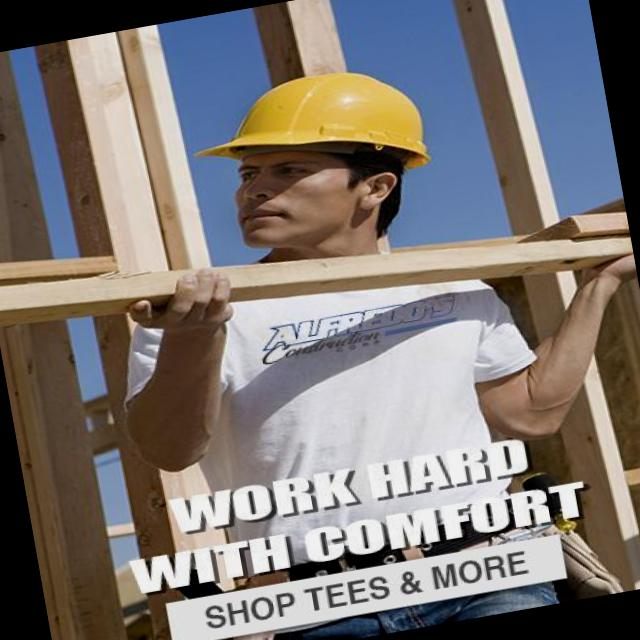helmet: (177, 43, 461, 206)
